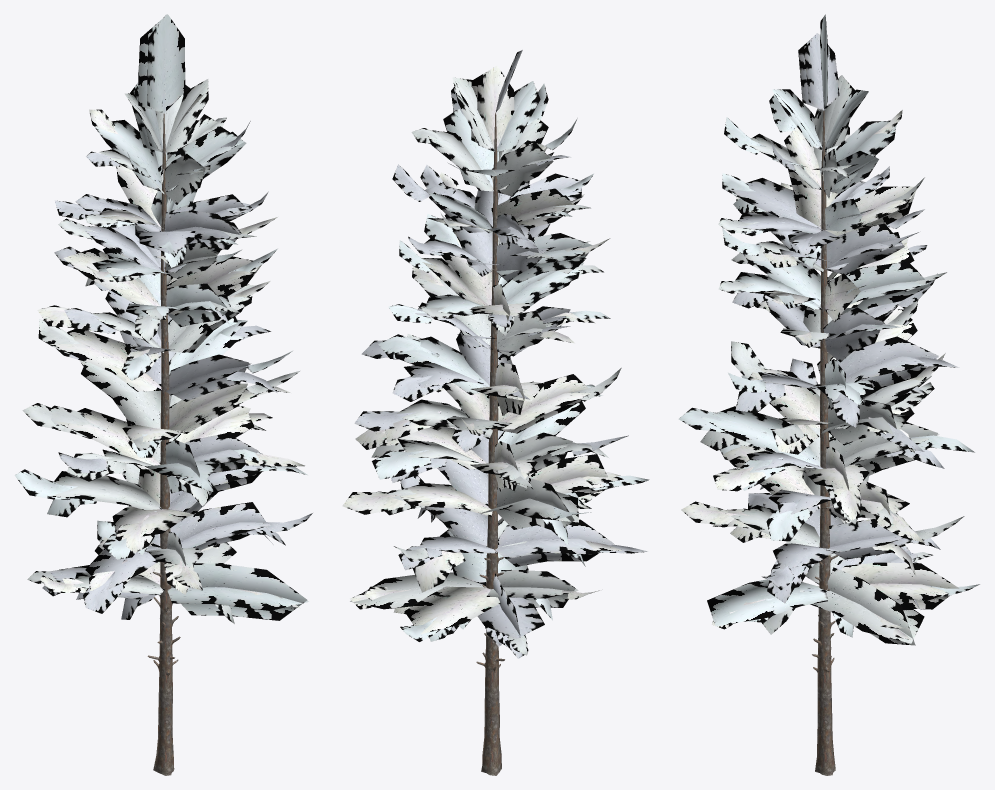
Rendered from Spruce_Norway_Desktop_3_Forest_001_e51a64.glb.
The picture shows the model from 3 angles, left to right: view 1: azimuth 30°, elevation 25°; view 2: azimuth 150°, elevation 25°; view 3: azimuth 270°, elevation 25°; orthographic projection.
Bounding box in the file's own units: 5.09 × 14.71 × 5.32.
Materials: 2 (2 with a texture image).
